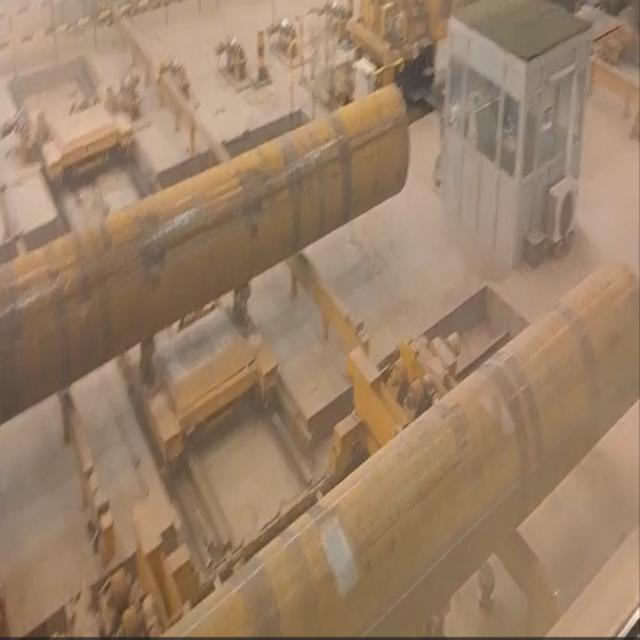warningzone: (46, 285, 529, 623), (13, 55, 158, 229)
